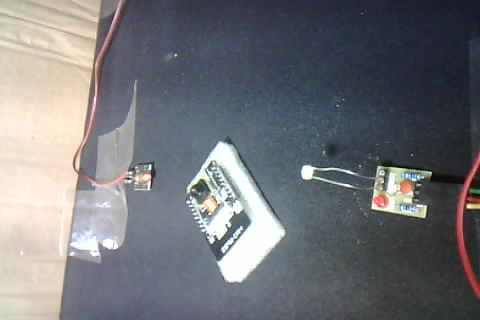esp32: (182, 144, 272, 278)
